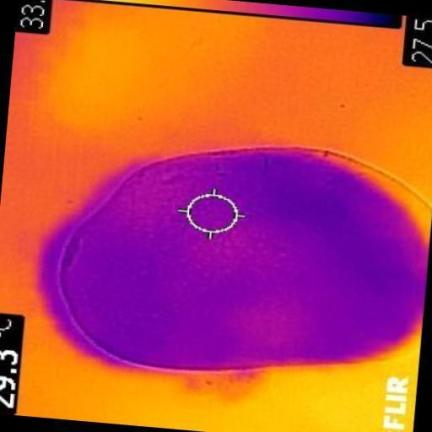mango: (45, 148, 431, 371)
